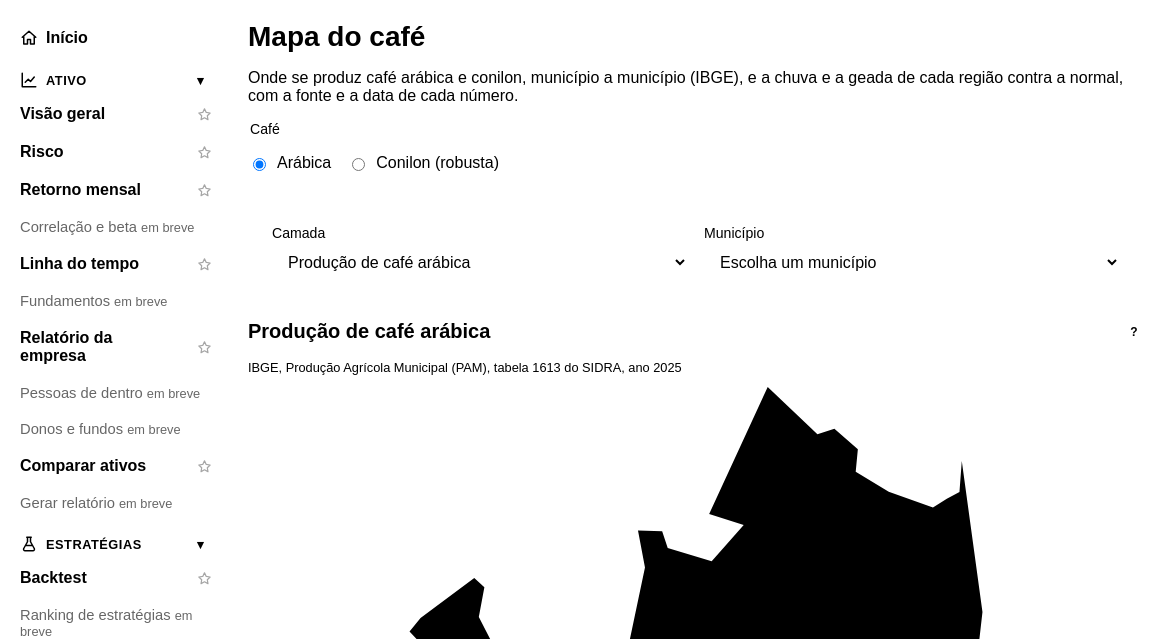
Test: mapa do café › escolher o município abre a ficha com a PAM, o clima e a fase do mês
Step 1. Select "Patos de Minas (MG)" in the dropdown labelled "Município" → (912, 262), box x1=704 y1=245 x2=1120 y2=280
(page scrolled)
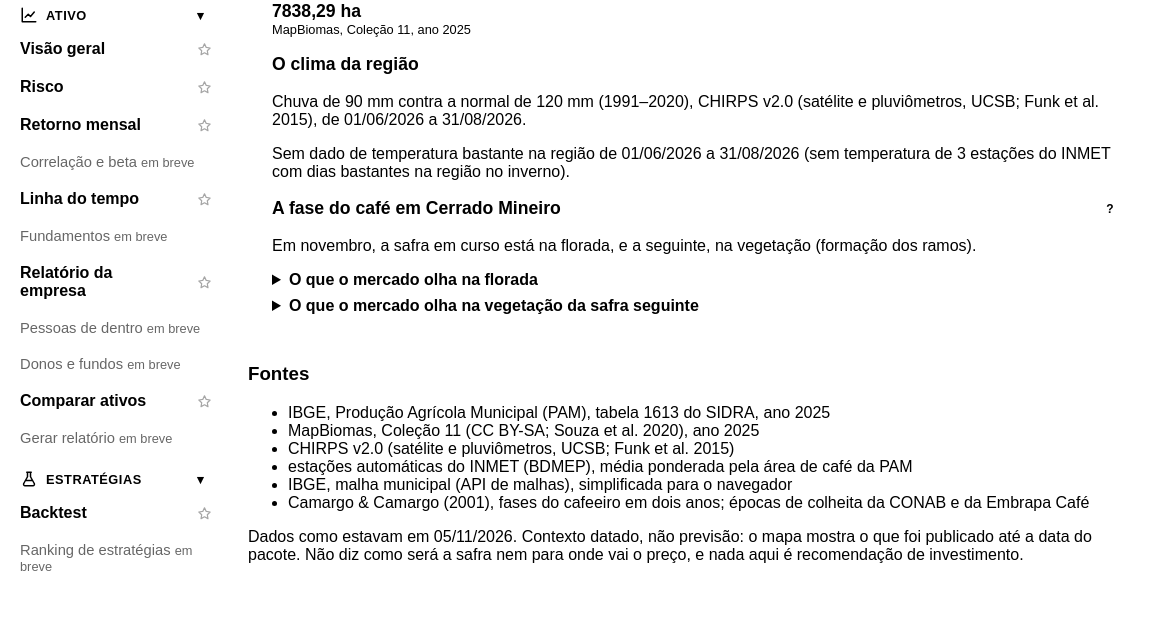
Check: the text "Chuva de 90 mm contra a normal de 120 mm (1991–2020), CHIRPS v2.0 (satélite e pluviômetros, UCSB; Funk et al. 2015), de " is shown, box x1=272 y1=93 x2=1099 y2=128
Check: the text "Em novembro, a safra em curso está na florada, e a seguinte, na vegetação (formação dos ramos)." is shown, box x1=272 y1=237 x2=976 y2=254
Check: the heading "O que o mercado olha na florada" is shown, box x1=289 y1=271 x2=538 y2=288
